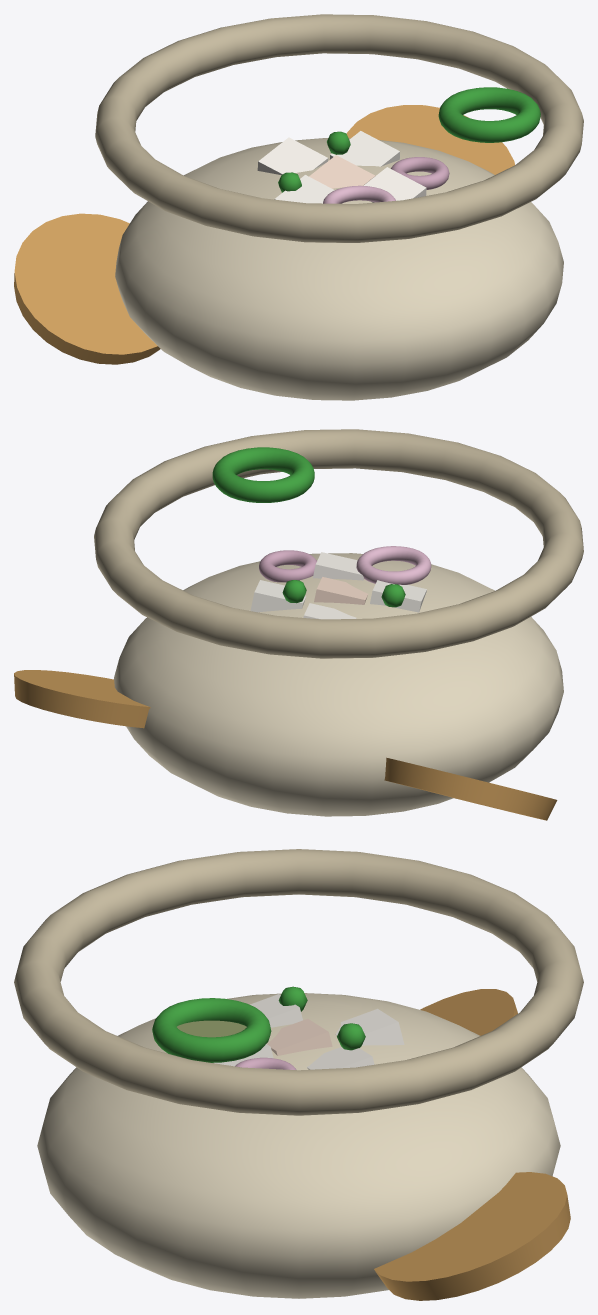
File: ceviche.glb
3 renders of one model, top to bottom at view 1: azimuth 30°, elevation 25°; view 2: azimuth 150°, elevation 25°; view 3: azimuth 270°, elevation 25°, orthographic. The views are drawn at different scales.
Bounding box in the file's own units: 0.232 × 0.117 × 0.196.
